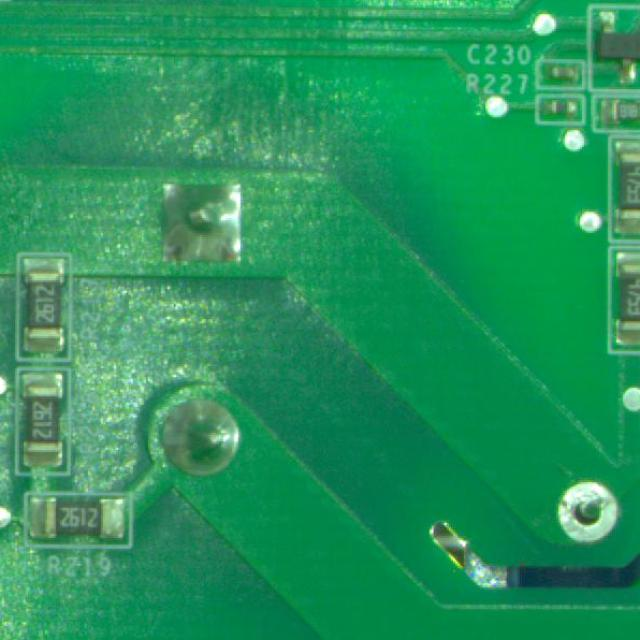Insufficient solder: (550, 473, 623, 548)
